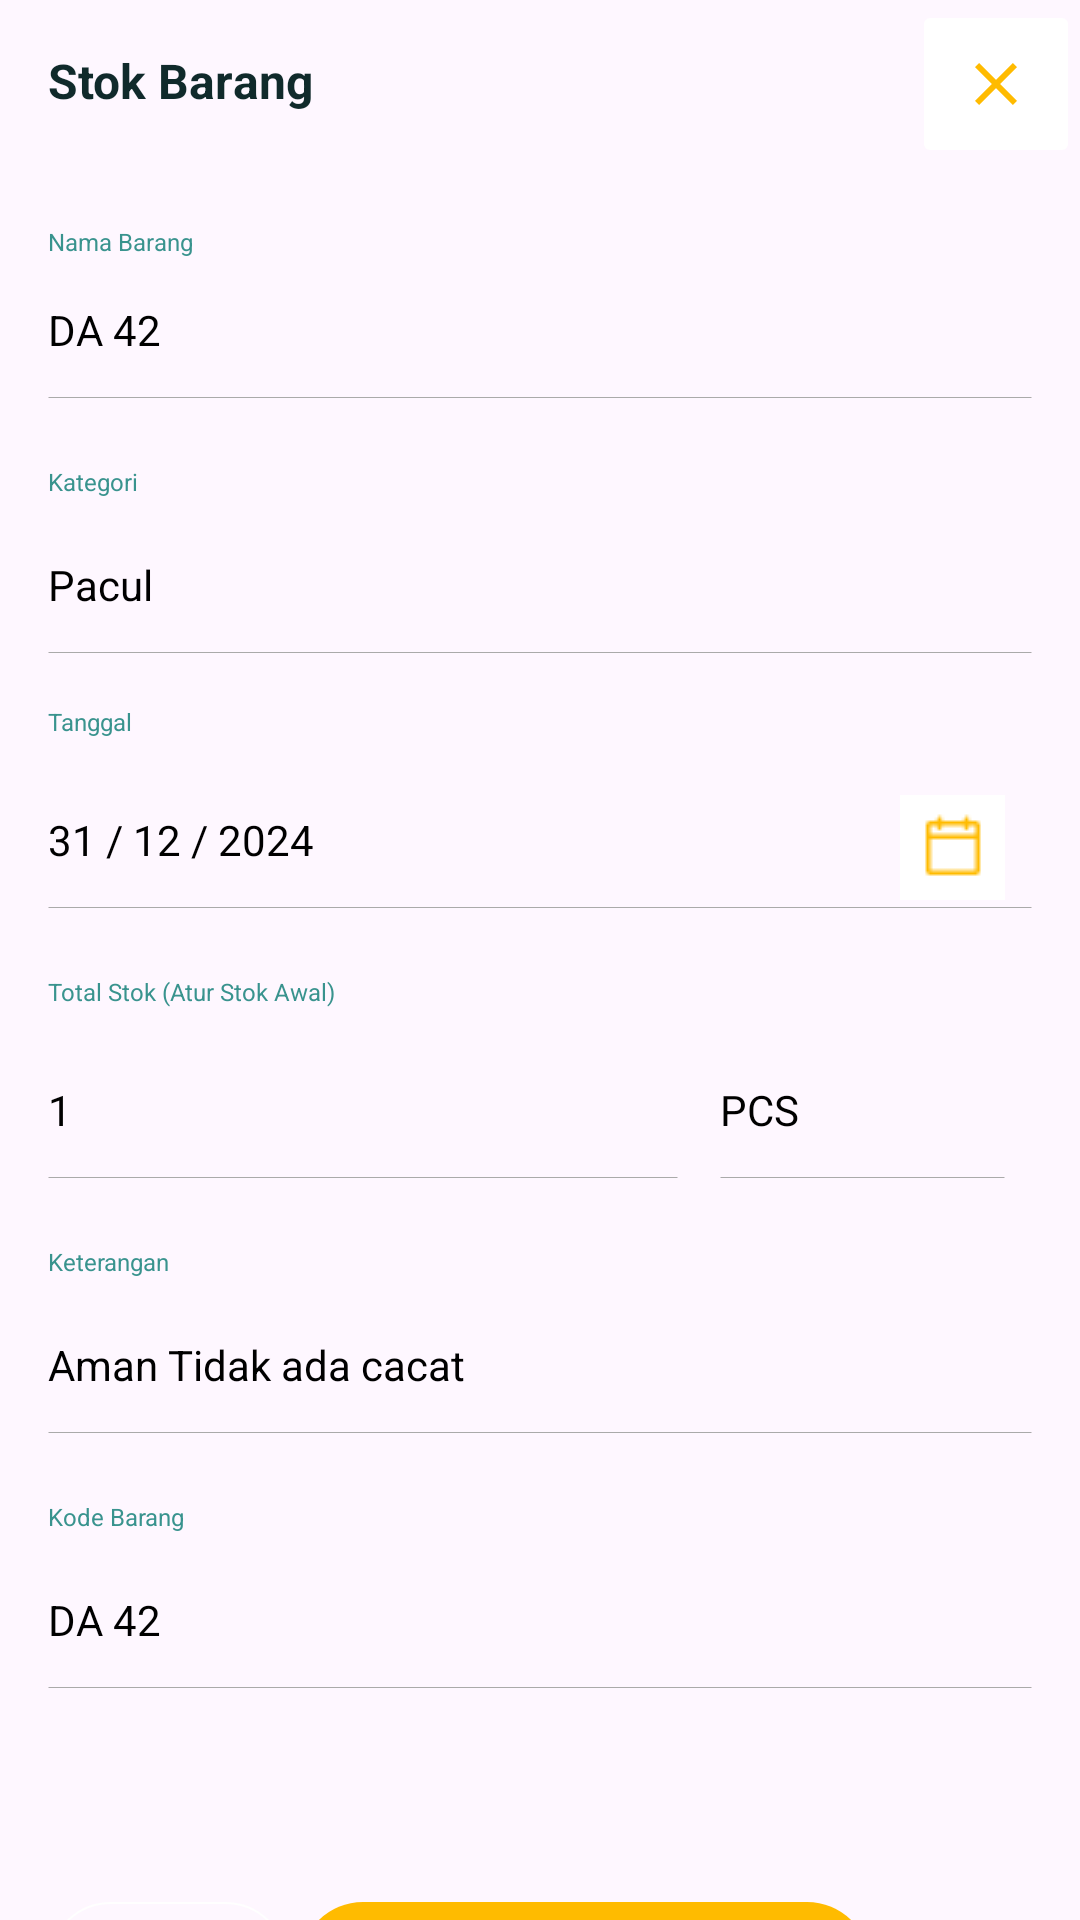

Icon click points for this 1080px x 1920px phone screenshot, format point (x, y):
cross: point (996, 84)
iconstanggal: point (953, 845)
